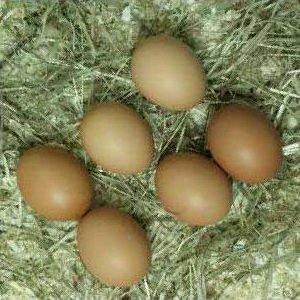egg: (77, 206, 152, 288), (131, 34, 207, 113), (208, 104, 282, 184), (16, 147, 93, 221), (156, 152, 232, 224), (81, 103, 154, 174)
